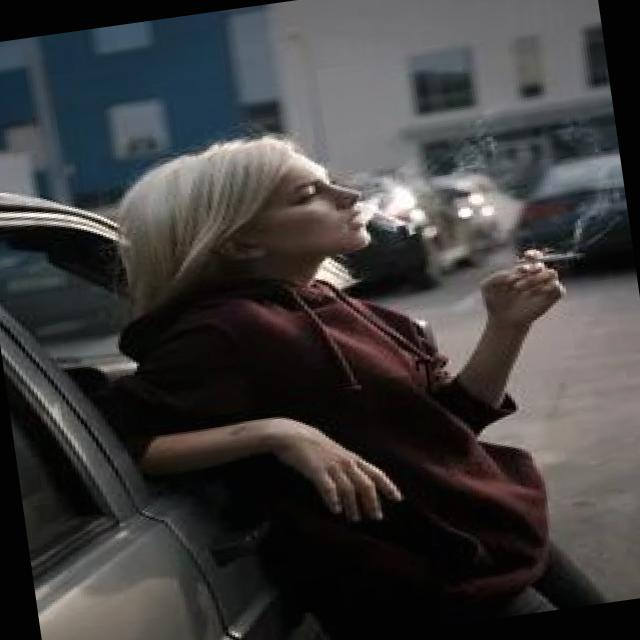cigarette: (504, 243, 583, 270)
